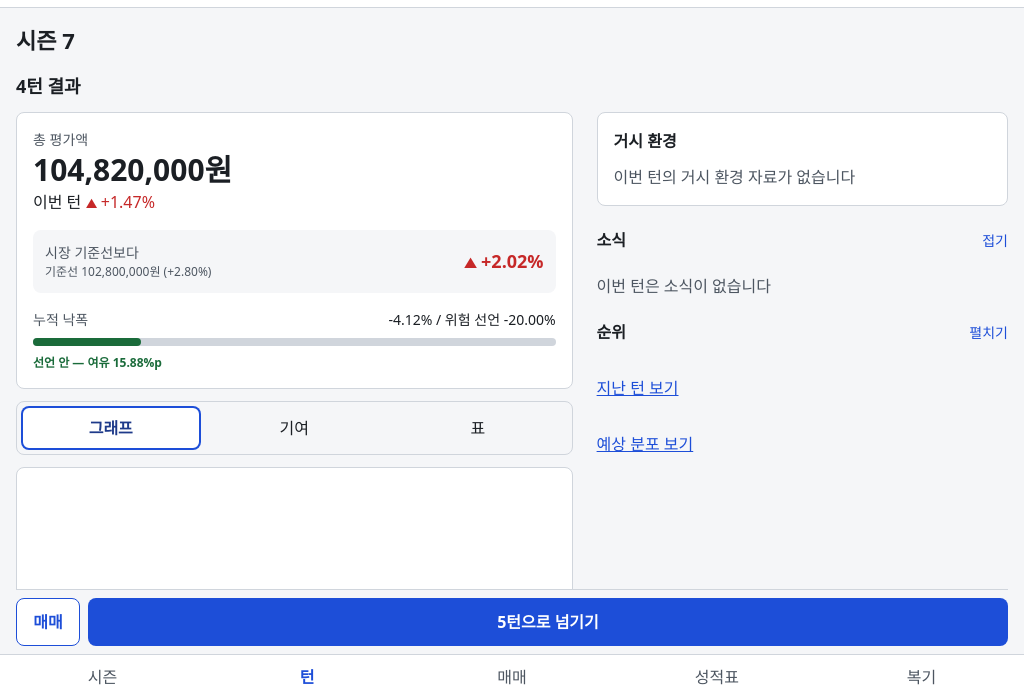
Test case: turn contribution on the turn screen › shows the top three up and down from the server order, the rest behind 전체 보기
Click the tab "기여". click: (294, 428)
box: x1=204 y1=406 x2=384 y2=450
(page scrolled)
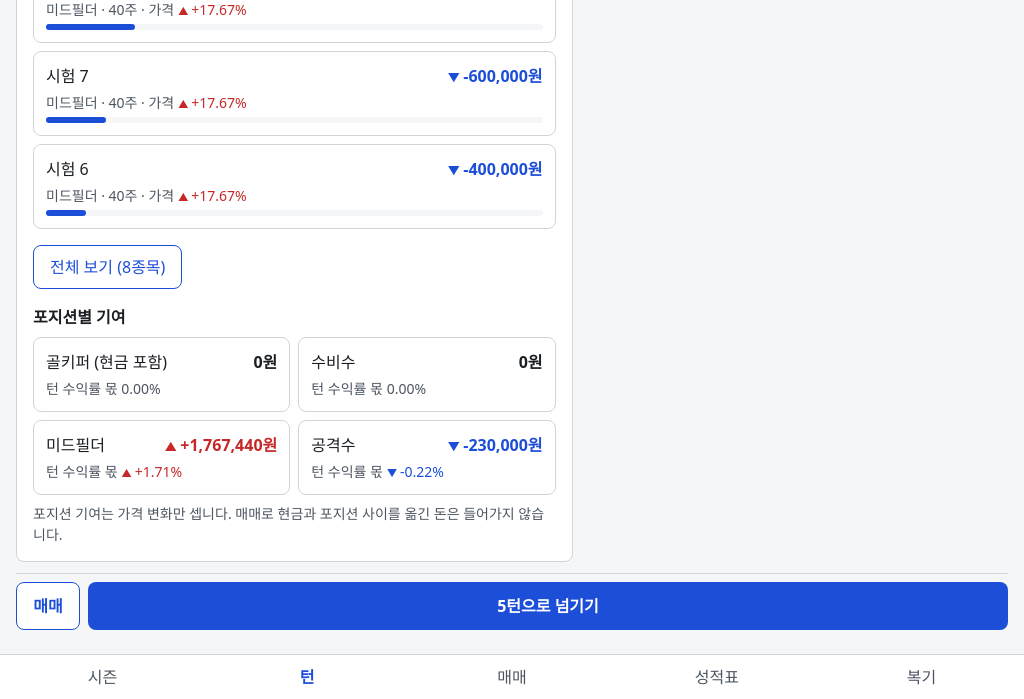
Expected: the text "시험 4" is not shown
Click the button "전체 보기 (8종목)". click: (108, 267)
box: x1=33 y1=245 x2=182 y2=289
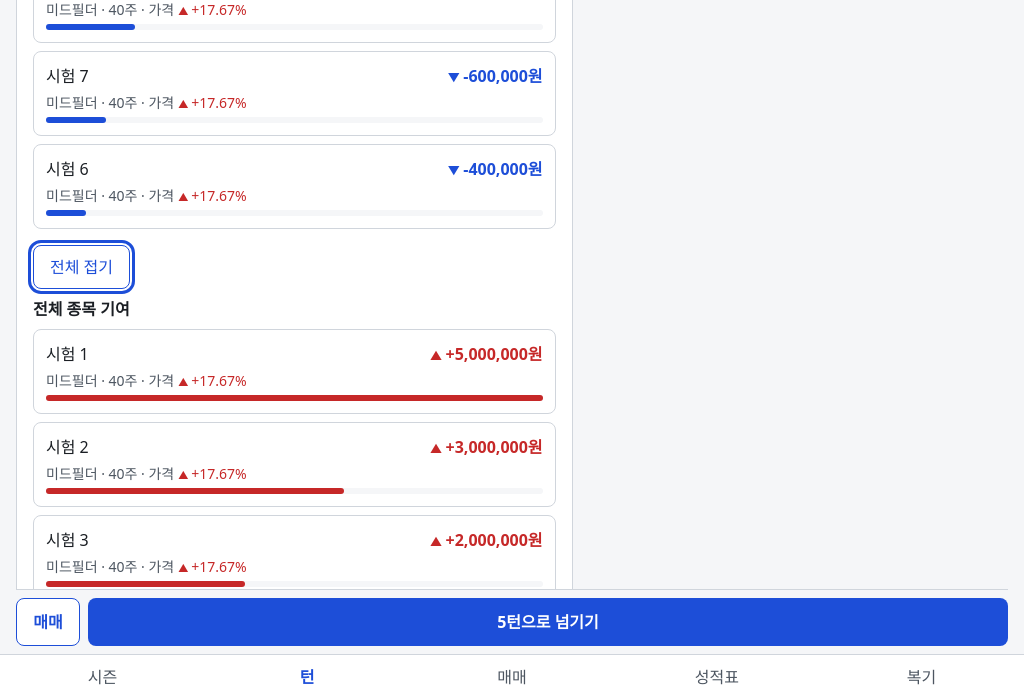
Expected: the button named "전체 보기 (8종목)" is expanded
Expected: the button named "전체 보기 (8종목)" reads "전체 접기"
Expected: the list item "시험 1 +5,000,000원 미드필더 · 40주 · 가격 +17.67%" is shown, x1=33 y1=329 x2=556 y2=414
Click the button named "전체 보기 (8종목)". click: (82, 267)
box: x1=33 y1=245 x2=130 y2=289
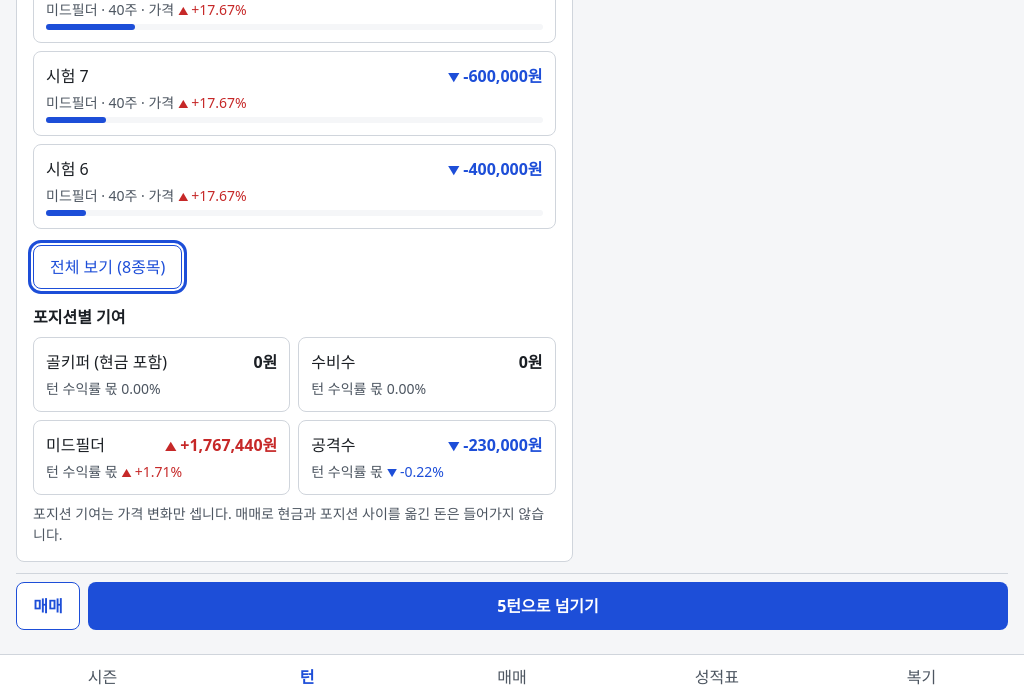
Expected: the heading "전체 종목 기여" is gone
